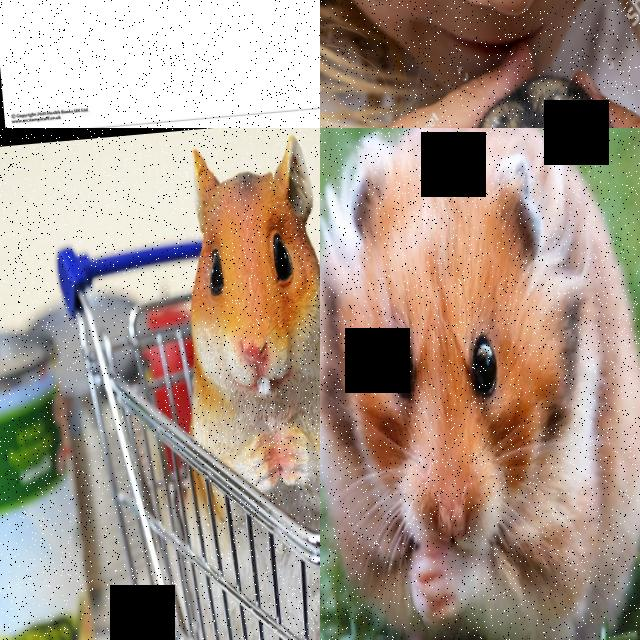hamster: (320, 128, 640, 640), (166, 132, 320, 542), (450, 67, 628, 128)
